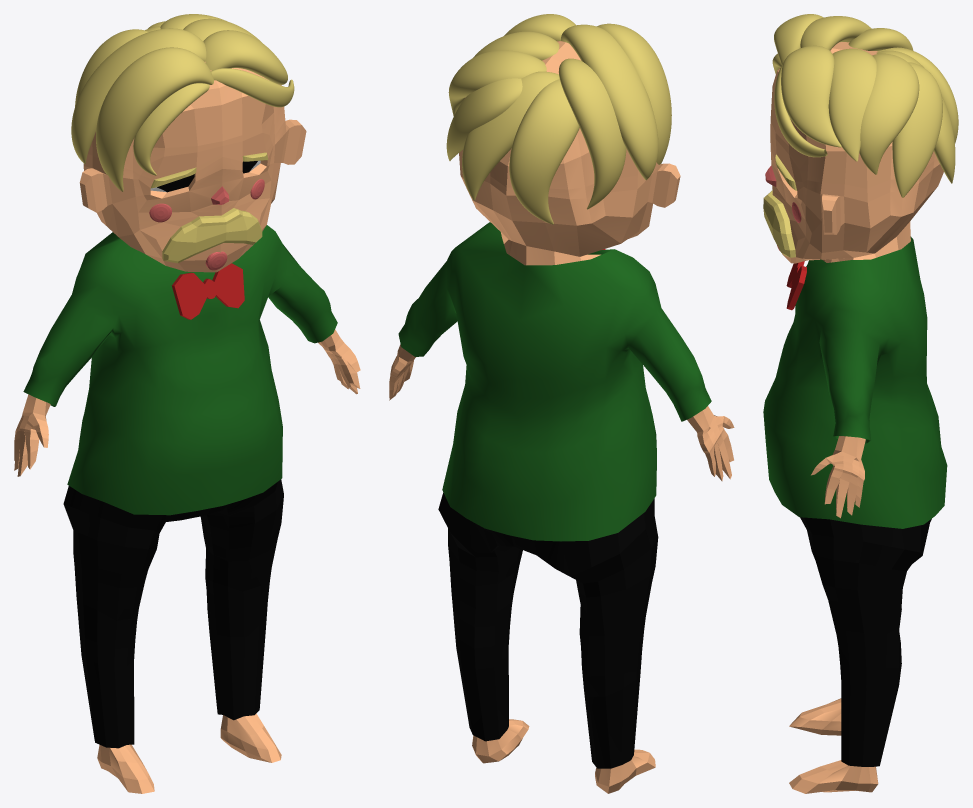
Rendered from character1.glb.
The picture shows the model from 3 angles, left to right: view 1: azimuth 30°, elevation 25°; view 2: azimuth 150°, elevation 25°; view 3: azimuth 270°, elevation 25°; orthographic projection.
Visible parts, largest first — view 1: human.005, human.004, human.006, NurbsPath.018, NurbsPath.019, NurbsPath.011, Plane.009, NurbsPath.020, NurbsPath.021, NurbsPath.017, NurbsPath.012; view 2: human.005, human.006, human.004, NurbsPath.016, NurbsPath.019, NurbsPath.017, NurbsPath.015, NurbsPath.018, NurbsPath.013, NurbsPath.014, NurbsPath.012, NurbsPath.011; view 3: human.005, human.004, human.006, NurbsPath.013, NurbsPath.011, NurbsPath.014, NurbsPath.012, NurbsPath.019, NurbsPath.015, NurbsPath.021, NurbsPath.018, NurbsPath.017 (+2 smaller).
Part boxes in pixels (left/top/right/bottom): human.005: left=23, top=225, right=337, bottom=515; human.004: left=14, top=62, right=360, bottom=793; human.006: left=63, top=479, right=283, bottom=748; NurbsPath.018: left=96, top=47, right=213, bottom=191; NurbsPath.019: left=71, top=28, right=206, bottom=163; NurbsPath.011: left=203, top=30, right=287, bottom=84; Plane.009: left=171, top=263, right=244, bottom=319; NurbsPath.020: left=133, top=83, right=209, bottom=175; NurbsPath.021: left=211, top=68, right=294, bottom=107; NurbsPath.017: left=75, top=29, right=148, bottom=106; NurbsPath.012: left=183, top=18, right=261, bottom=42; human.005: left=398, top=222, right=711, bottom=541; human.006: left=438, top=492, right=658, bottom=768; human.004: left=389, top=41, right=734, bottom=793; NurbsPath.016: left=509, top=79, right=579, bottom=224; NurbsPath.019: left=561, top=24, right=658, bottom=180; NurbsPath.017: left=558, top=58, right=626, bottom=209; NurbsPath.015: left=462, top=71, right=559, bottom=200; NurbsPath.018: left=597, top=23, right=671, bottom=164; NurbsPath.013: left=448, top=50, right=546, bottom=116; NurbsPath.014: left=446, top=78, right=522, bottom=160; NurbsPath.012: left=473, top=31, right=559, bottom=60; NurbsPath.011: left=504, top=14, right=575, bottom=41; human.005: left=763, top=236, right=947, bottom=528; human.004: left=763, top=42, right=943, bottom=793; human.006: left=800, top=517, right=931, bottom=766; NurbsPath.013: left=859, top=53, right=919, bottom=174; NurbsPath.011: left=781, top=45, right=841, bottom=147; NurbsPath.014: left=892, top=62, right=942, bottom=197; NurbsPath.012: left=828, top=48, right=876, bottom=161; NurbsPath.019: left=800, top=16, right=871, bottom=50; NurbsPath.015: left=876, top=50, right=955, bottom=183; NurbsPath.021: left=774, top=62, right=827, bottom=157; NurbsPath.018: left=774, top=14, right=823, bottom=64; NurbsPath.017: left=848, top=28, right=913, bottom=50.
Size of the model in its own units: 1.19 by 2.5 by 0.6038.
